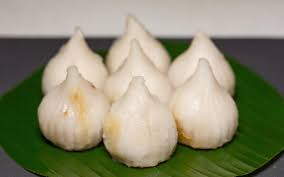modak: (172, 55, 251, 148), (36, 68, 117, 151), (112, 72, 180, 170), (41, 25, 116, 104), (169, 32, 253, 97), (102, 14, 180, 72), (108, 43, 175, 103)
